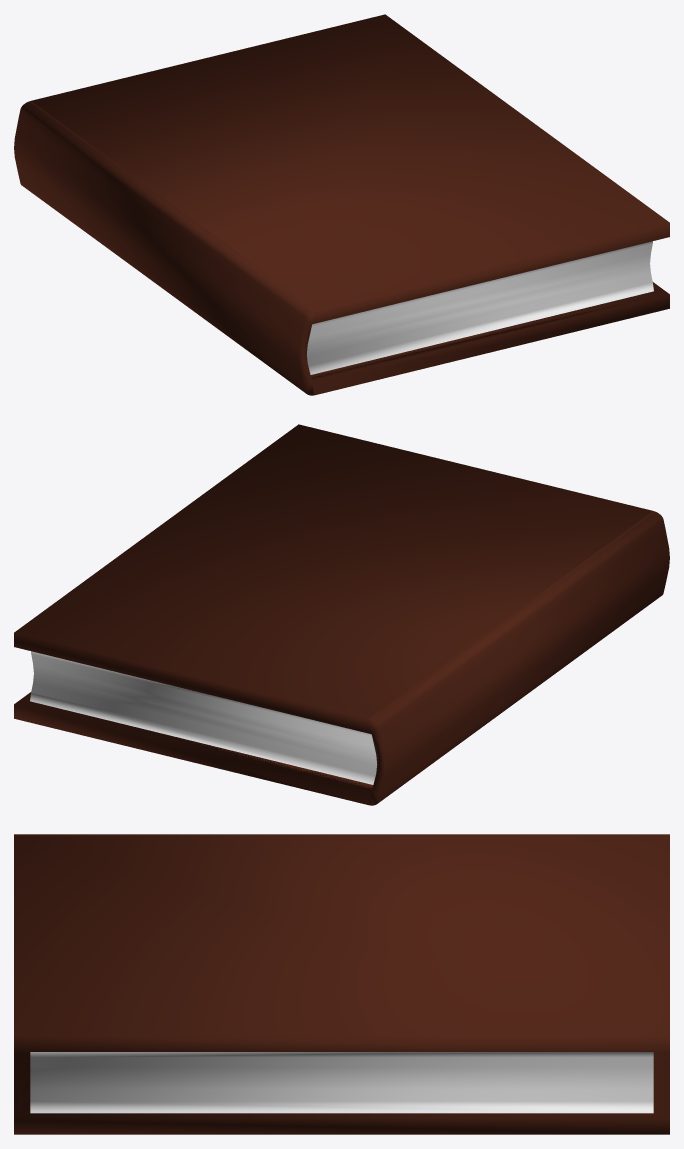
File: Book.glb
3 views of the same model, one above another, from view 1: azimuth 30°, elevation 25°; view 2: azimuth 150°, elevation 25°; view 3: azimuth 270°, elevation 25° (orthographic). The views are drawn at different scales.
Parts seen in each view (by area): view 1: Cube; view 2: Cube; view 3: Cube.
Part boxes in pixels (bbox=[...]): Cube: bbox=[14, 14, 669, 395]; Cube: bbox=[14, 424, 669, 805]; Cube: bbox=[14, 834, 669, 1134].
Size of the model in its own units: 1.81 by 0.4 by 2.4.
